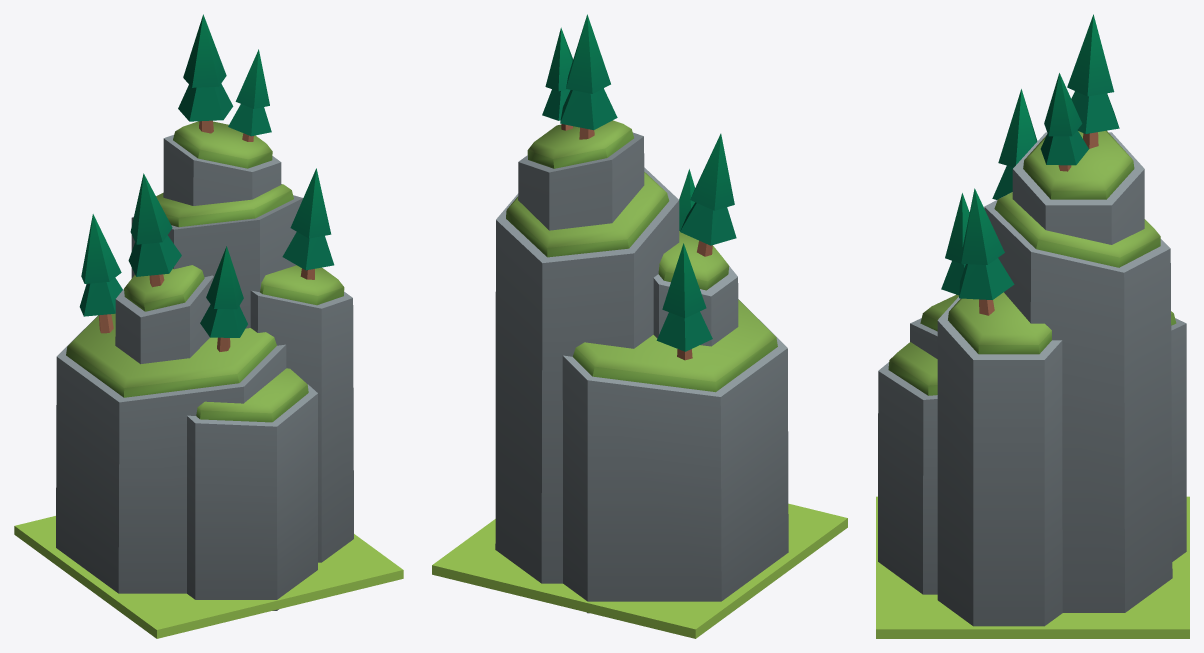
File: mountain.glb
3 renders of one model, left to right at view 1: azimuth 30°, elevation 25°; view 2: azimuth 150°, elevation 25°; view 3: azimuth 270°, elevation 25°, orthographic. The views are drawn at different scales.
Parts seen in each view (by area): view 1: Mountain; view 2: Mountain; view 3: Mountain.
Boxes of the visible parts, box(x1,y1,x2,y2) form: Mountain: box(14, 14, 403, 638); Mountain: box(432, 14, 847, 638); Mountain: box(876, 14, 1189, 638).
Bounding box in the file's own units: 0.29 × 0.5837 × 0.29.
2 materials, 2 textured.
